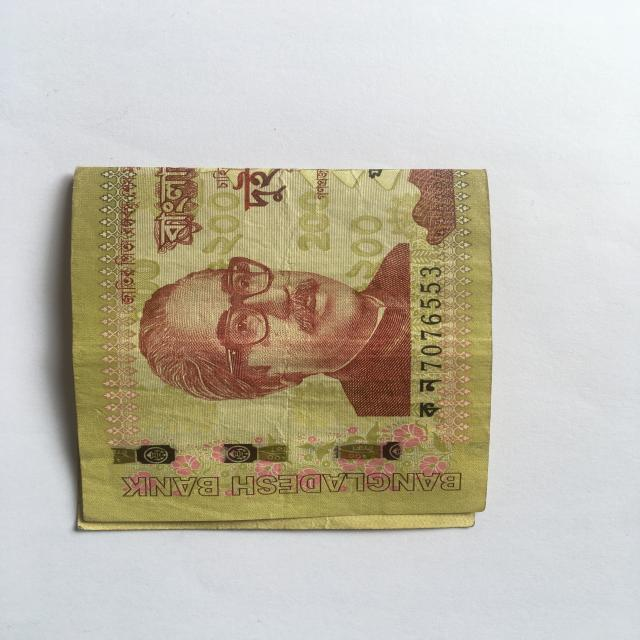Taka: (66, 164, 482, 521)
